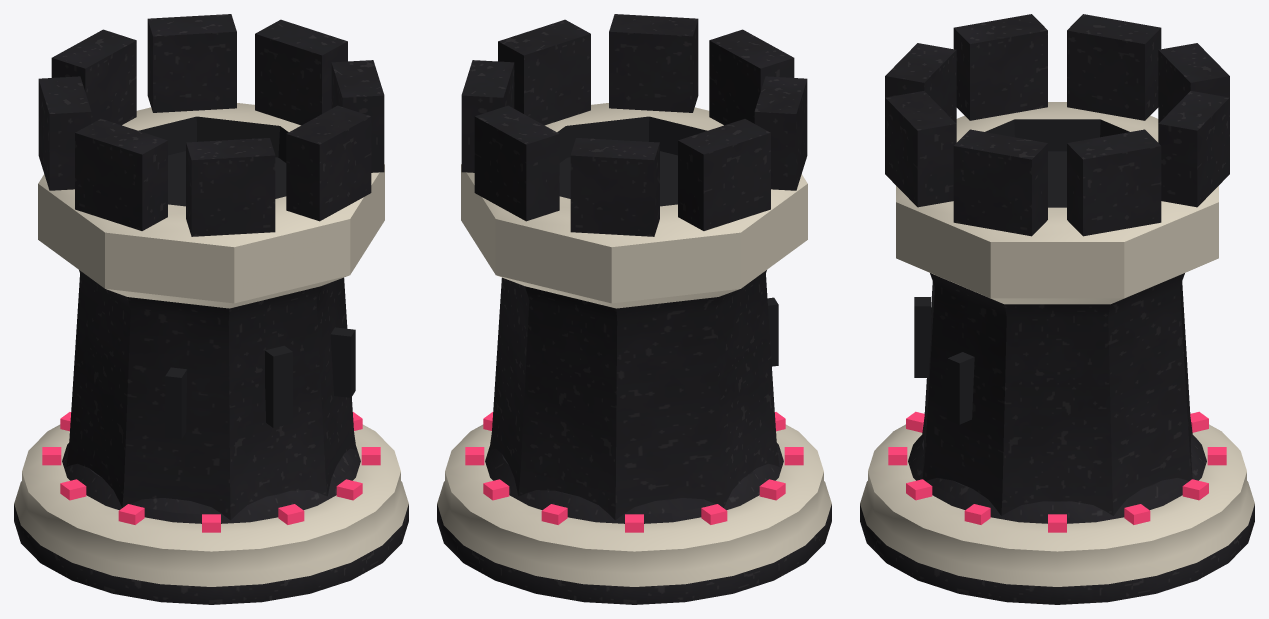
Rendered from rook_dark.glb.
The picture shows the model from 3 angles, left to right: view 1: azimuth 30°, elevation 25°; view 2: azimuth 150°, elevation 25°; view 3: azimuth 270°, elevation 25°; orthographic projection.
Visible parts, largest first — view 1: Piece_Rook_Dark_Mesh; view 2: Piece_Rook_Dark_Mesh; view 3: Piece_Rook_Dark_Mesh.
Part boxes in pixels (x1,y1,x2,y2): Piece_Rook_Dark_Mesh: (14,14,408,604); Piece_Rook_Dark_Mesh: (437,14,831,604); Piece_Rook_Dark_Mesh: (860,14,1254,604).
Size of the model in its own units: 0.7 by 0.85 by 0.7.
Materials: 4 (1 with a texture image).
